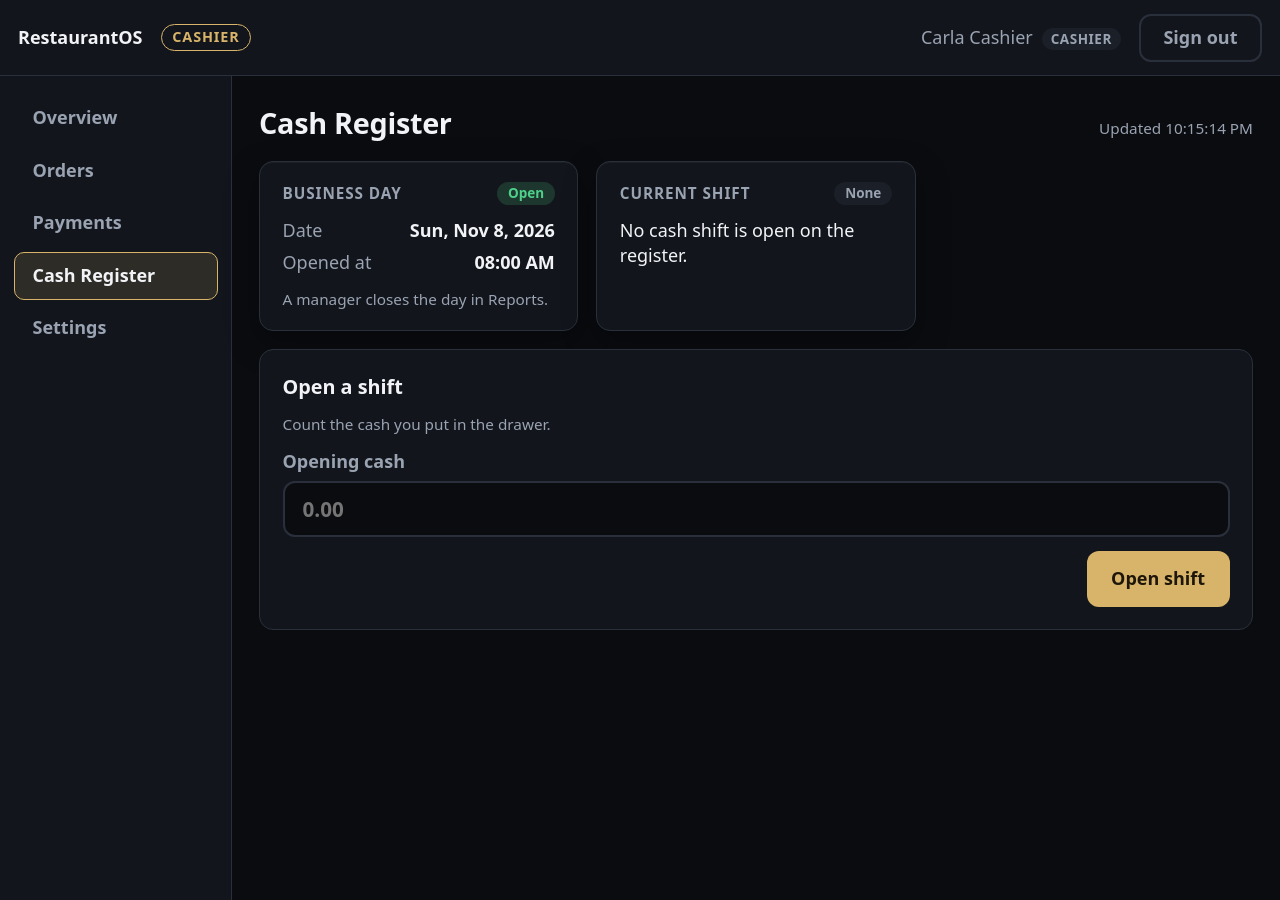
opening a shift › validates the amount before sending anything
This screenshot has width=1280, height=900.
Click the button "Open shift" at (1158, 579), box [1087, 551, 1230, 607]
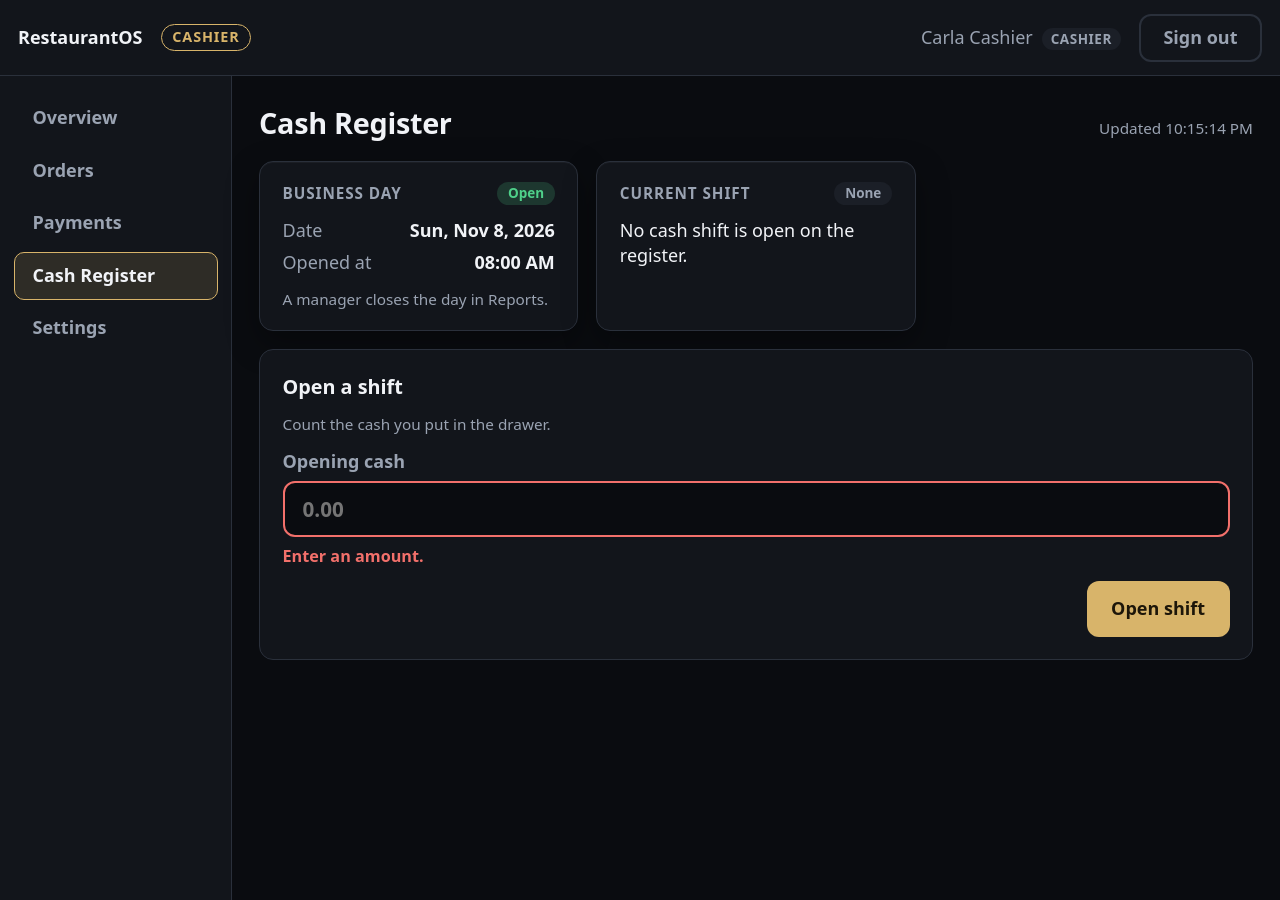
Expected: the text "Enter an amount." is shown, [282, 544, 424, 566]
Type "12.345" into the field labelled "Opening cash" at (756, 509), box [282, 481, 1230, 537]
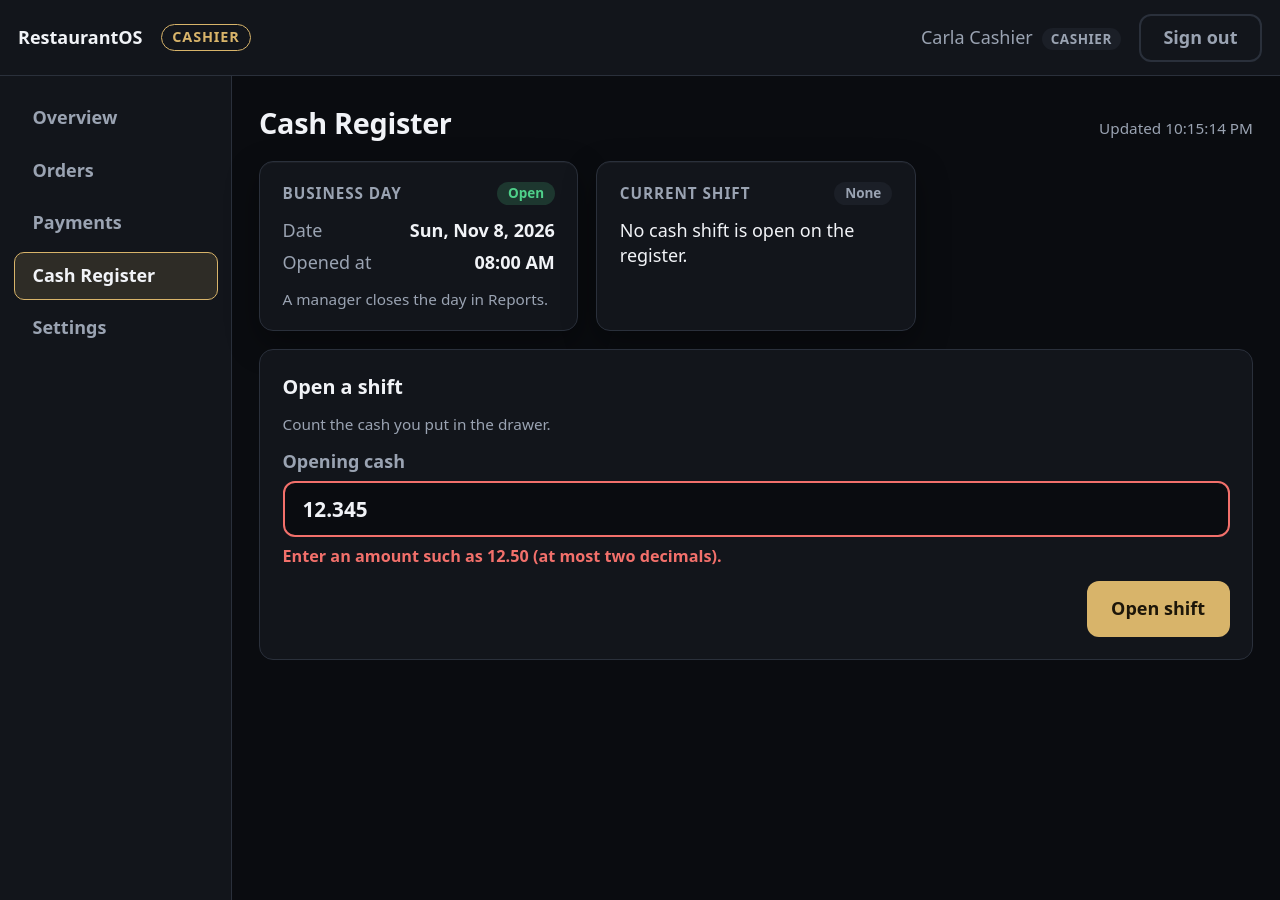
Expected: the text "Enter an amount such as 12.50 (at most two decimals)." is shown, [282, 544, 722, 566]
